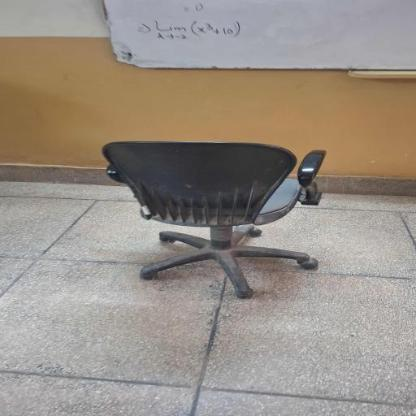chair: (92, 128, 336, 304)
